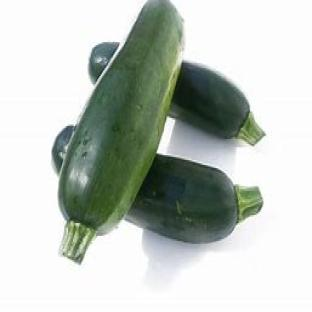Zucchini: (126, 156, 263, 242), (169, 62, 264, 145)
